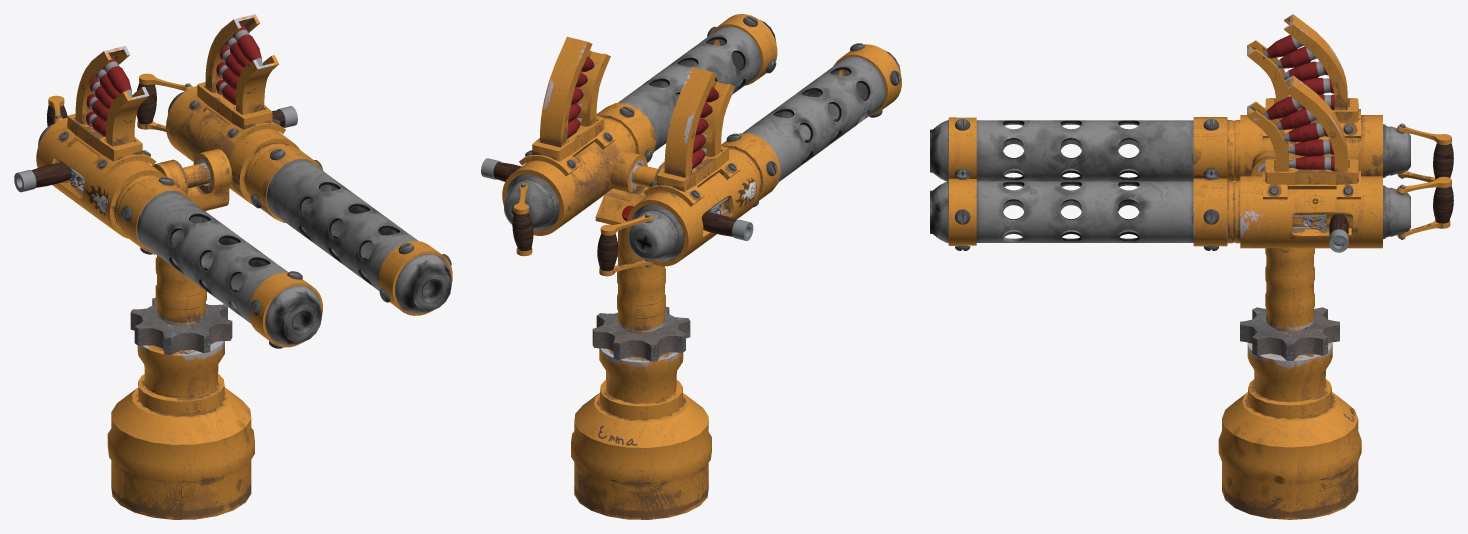
Rendered from Turret1.glb.
3 renders of one model, left to right at view 1: azimuth 30°, elevation 25°; view 2: azimuth 150°, elevation 25°; view 3: azimuth 270°, elevation 25°, orthographic. The views are drawn at different scales.
Visible parts, largest first — view 1: BOT2_LOW; view 2: BOT2_LOW; view 3: BOT2_LOW.
Boxes of the visible parts, x1,y1,x2,y2 form: BOT2_LOW: (14,14,452,519); BOT2_LOW: (481,14,901,519); BOT2_LOW: (930,14,1453,519).
Size of the model in its own units: 0.2307 by 0.3676 by 0.3952.
1 material, 1 textured.
